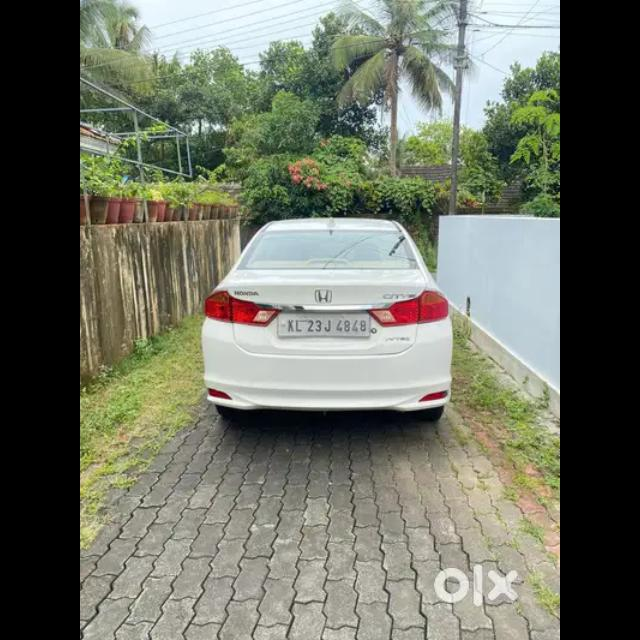vehicles: (202, 218, 452, 422)
